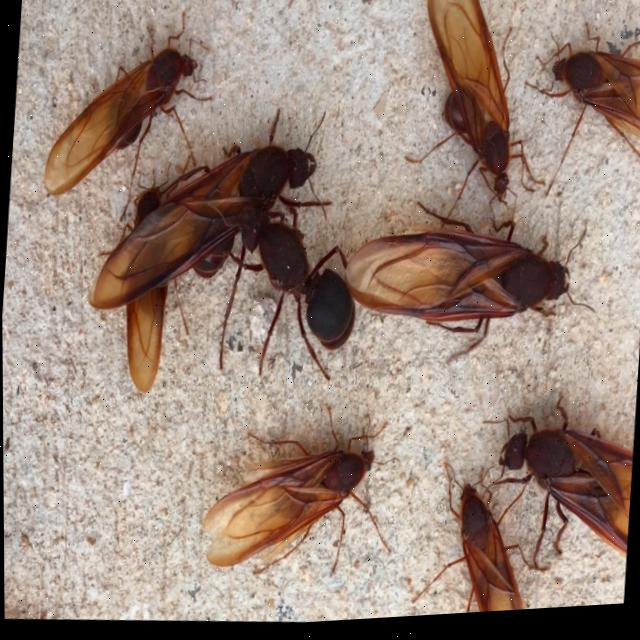Alive-Female-Alate: (81, 96, 339, 387), (336, 192, 603, 386), (469, 394, 637, 585)
Alive-Female-Dealate: (213, 190, 363, 392)
Alive-Male-Alate: (40, 2, 218, 233), (198, 394, 404, 593), (397, 0, 560, 246), (89, 150, 200, 401), (514, 12, 640, 212), (407, 461, 553, 621)
